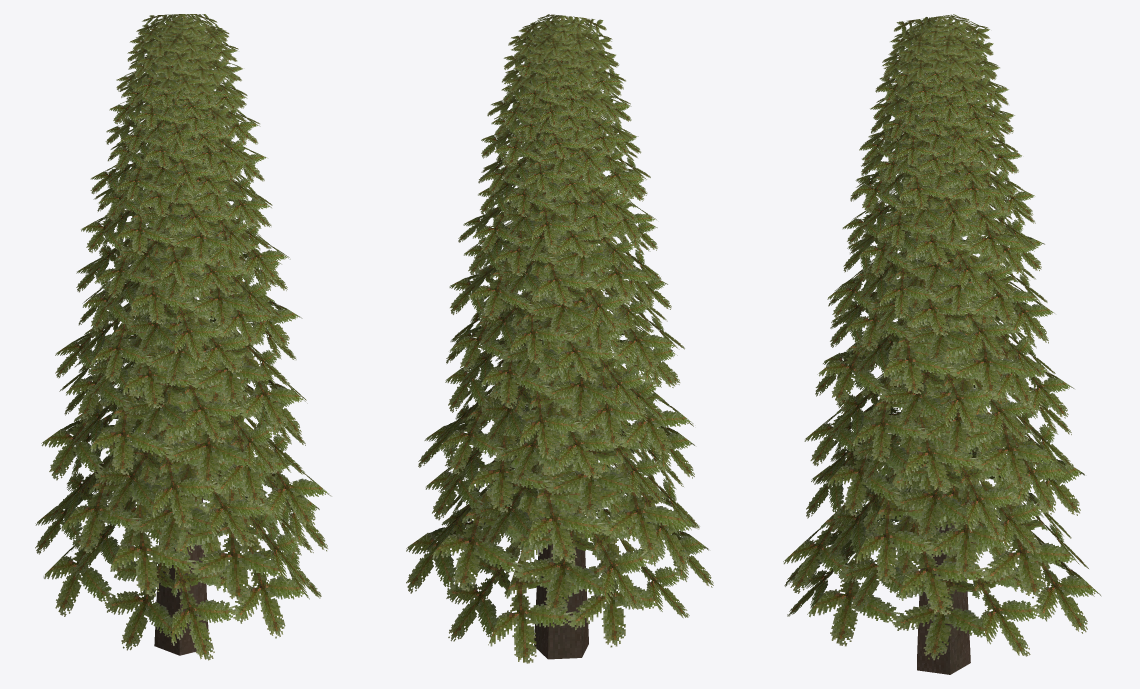
Rendered from tree.glb.
The picture shows the model from 3 angles, left to right: view 1: azimuth 30°, elevation 25°; view 2: azimuth 150°, elevation 25°; view 3: azimuth 270°, elevation 25°; orthographic projection. The views are drawn at different scales.
Visible parts, largest first — view 1: tree; view 2: tree; view 3: tree.
Part boxes in pixels (x1=…): tree: x1=35, y1=14, x2=331, y2=660; tree: x1=406, y1=14, x2=713, y2=663; tree: x1=783, y1=14, x2=1101, y2=674.
Bounding box in the file's own units: 5.9 × 12 × 6.15.
Materials: 2 (2 with a texture image).
